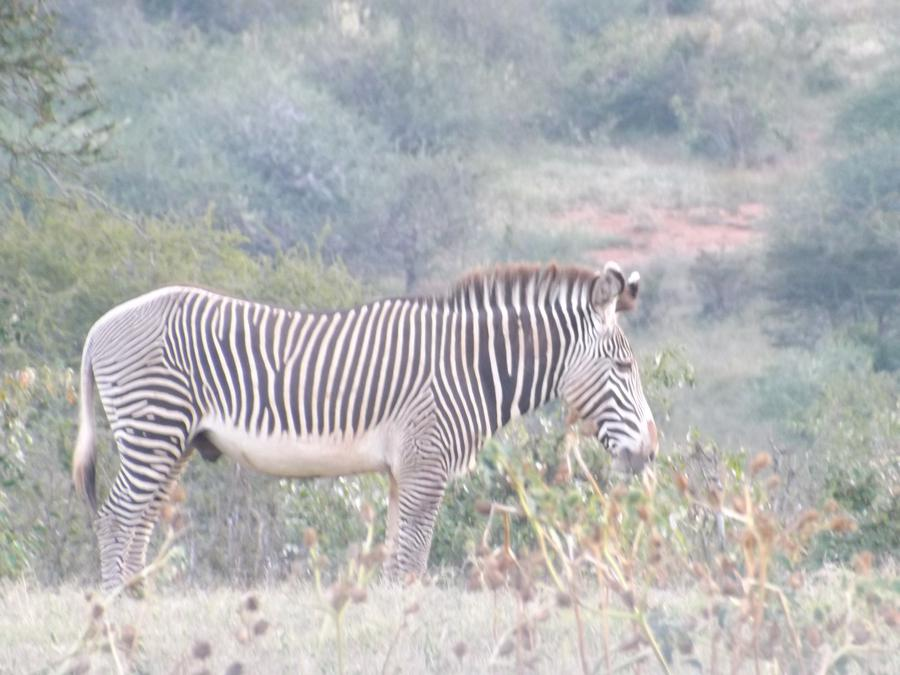zebra_grevys: (83, 261, 464, 479)
